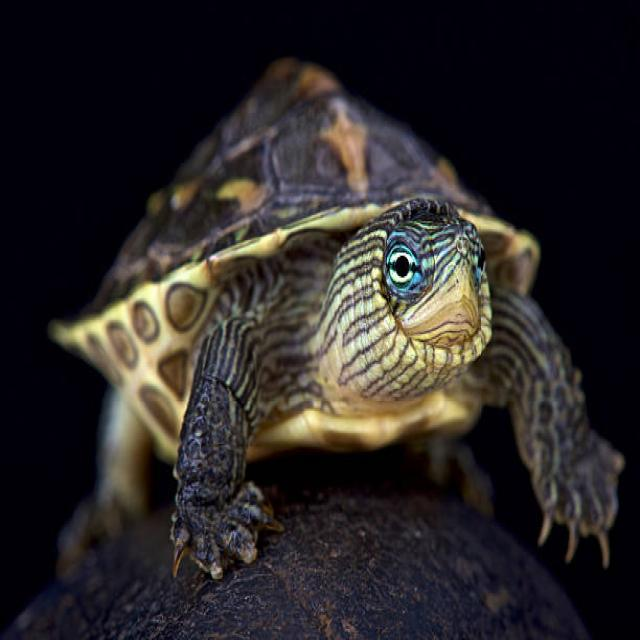terrapin: (59, 34, 564, 576), (128, 283, 314, 598), (468, 270, 640, 575), (332, 180, 506, 406)
